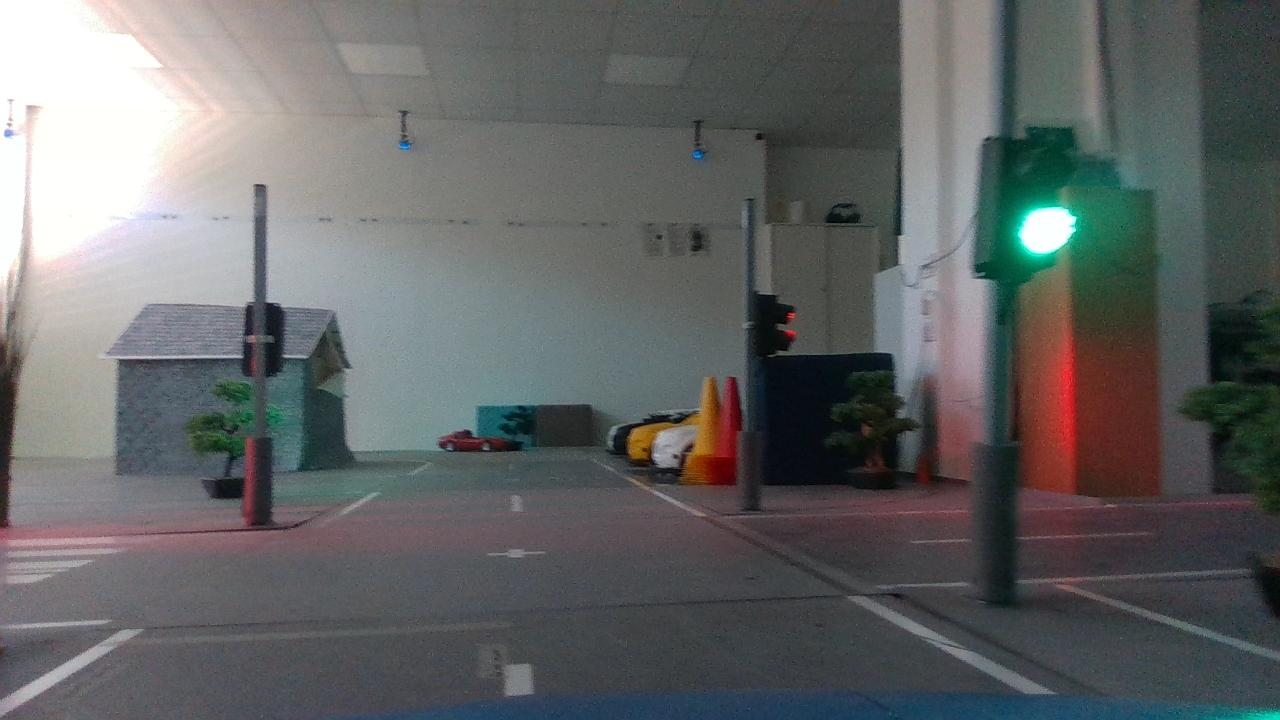traffic_light_green: (973, 114, 1080, 294)
